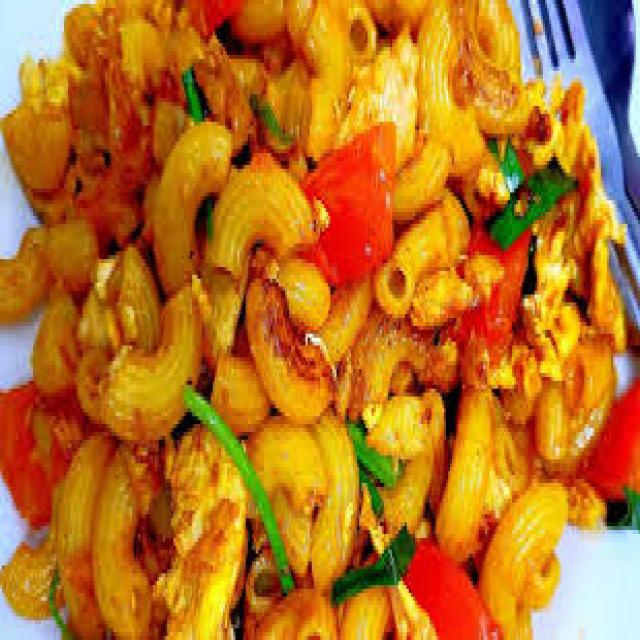pasta: (146, 120, 384, 599)
